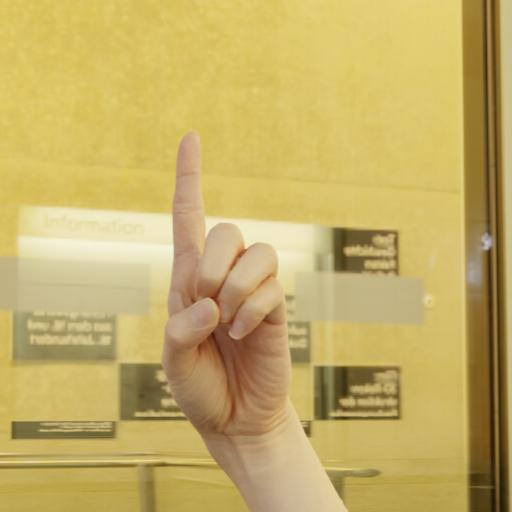D: (148, 126, 301, 450)
